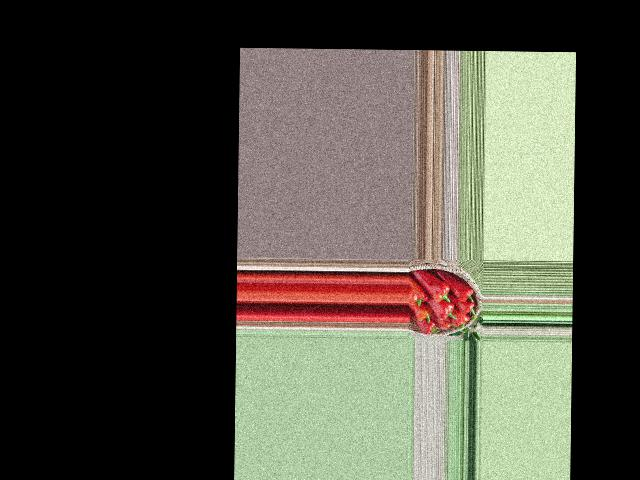bell_pepper: (456, 299, 478, 316)
